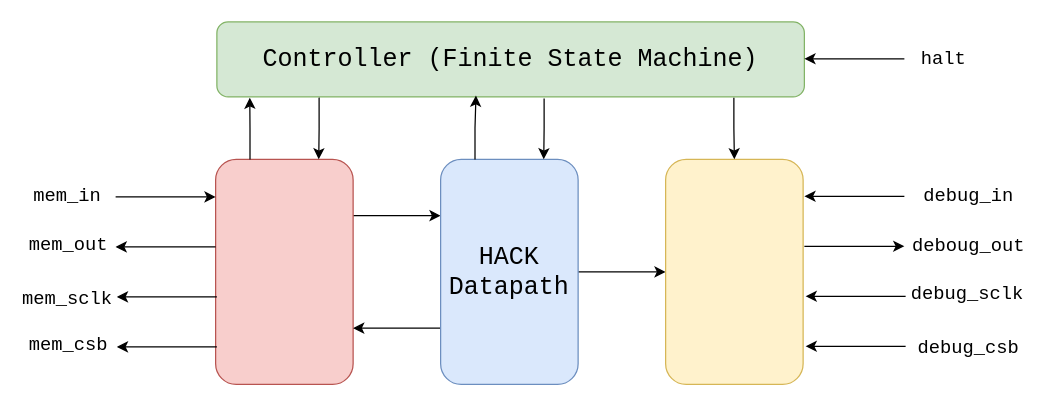
This 1045x406 diagram has some shape labels left out. Each missing label, with the centre of its shape:
"SPI Debug" goes at point (733, 271).
"SPI to Memory" goes at point (283, 271).
